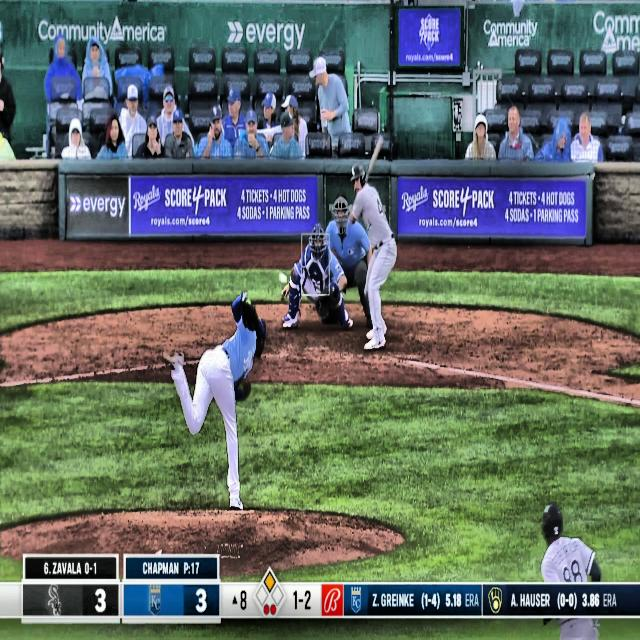baseball: (279, 271, 287, 285)
